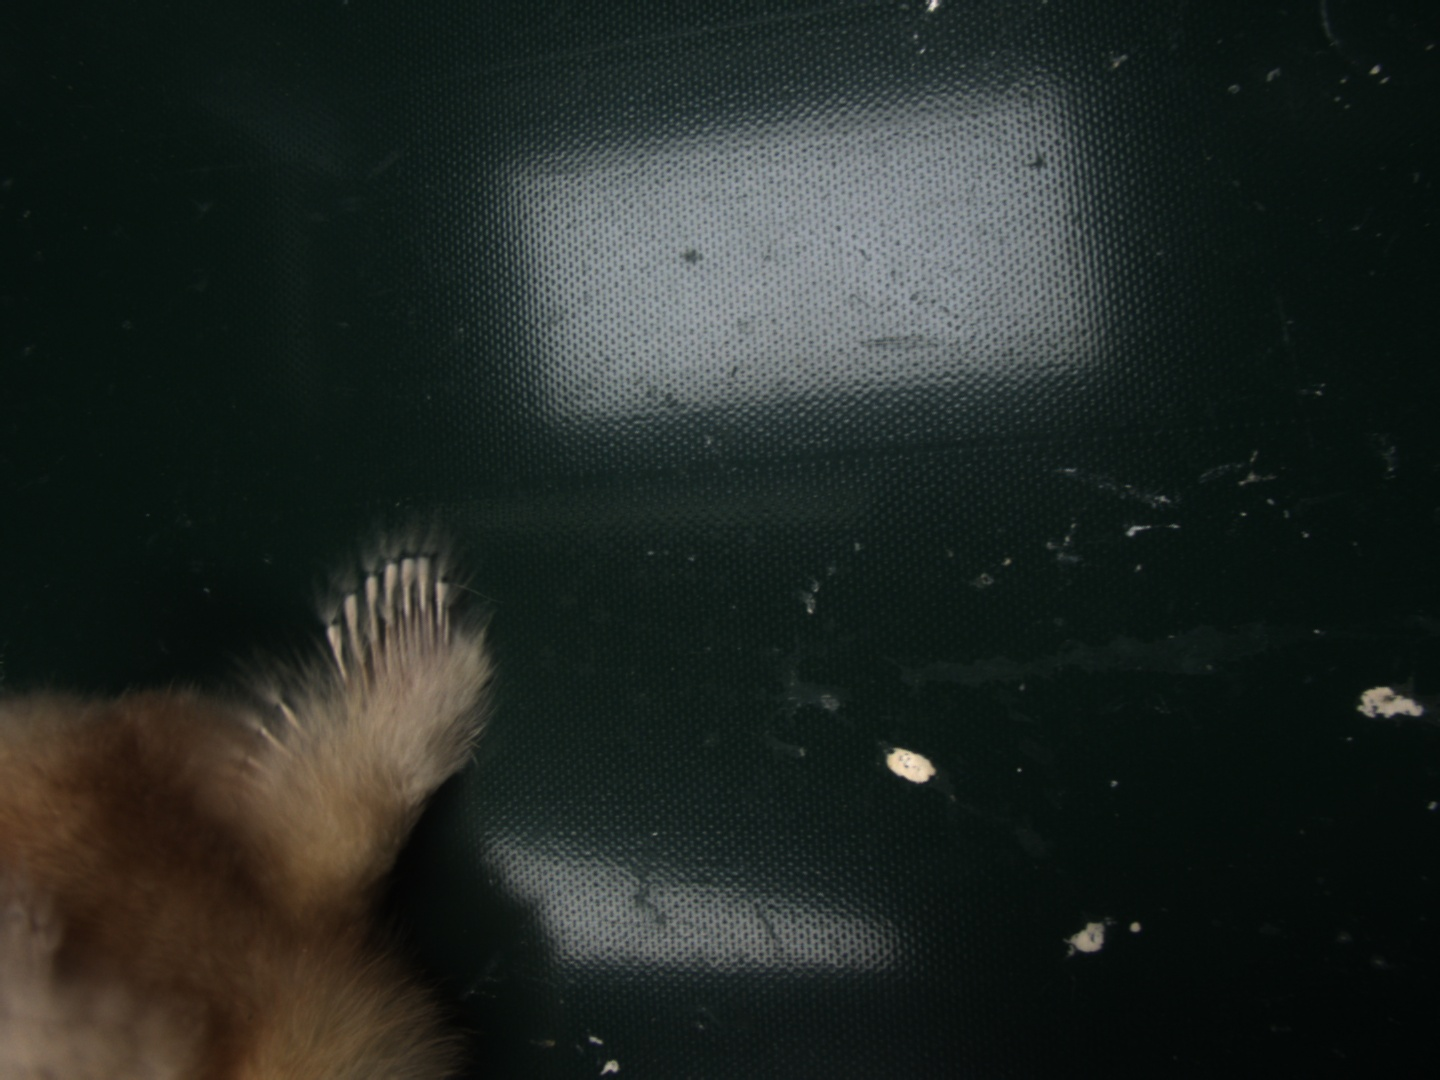female: (308, 549, 460, 686)
